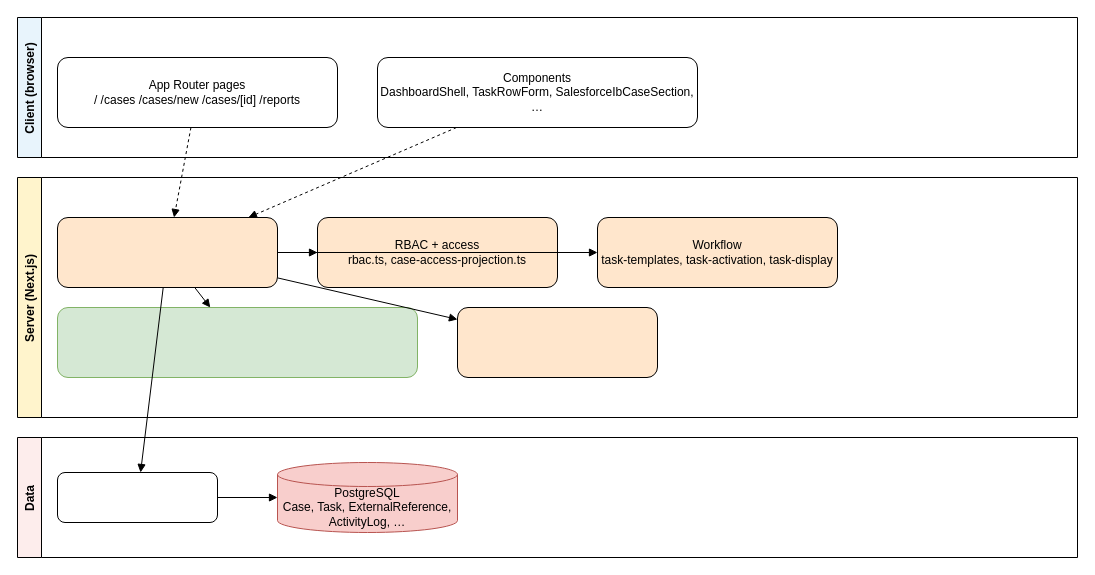
Some shapes in this 1095 by 575 pixel diagram are drawn without their labels. The centre of each missing label's shape, as x and y in pixels:
Prisma Client: [137,497]
Salesforce IB eligibility, payload-from-case, providers (mock / REST stub): [237,342]
Server Actions case-workspace.ts, cases.ts, auth.ts: [167,252]
Zod validations case, case-workspace: [557,342]
